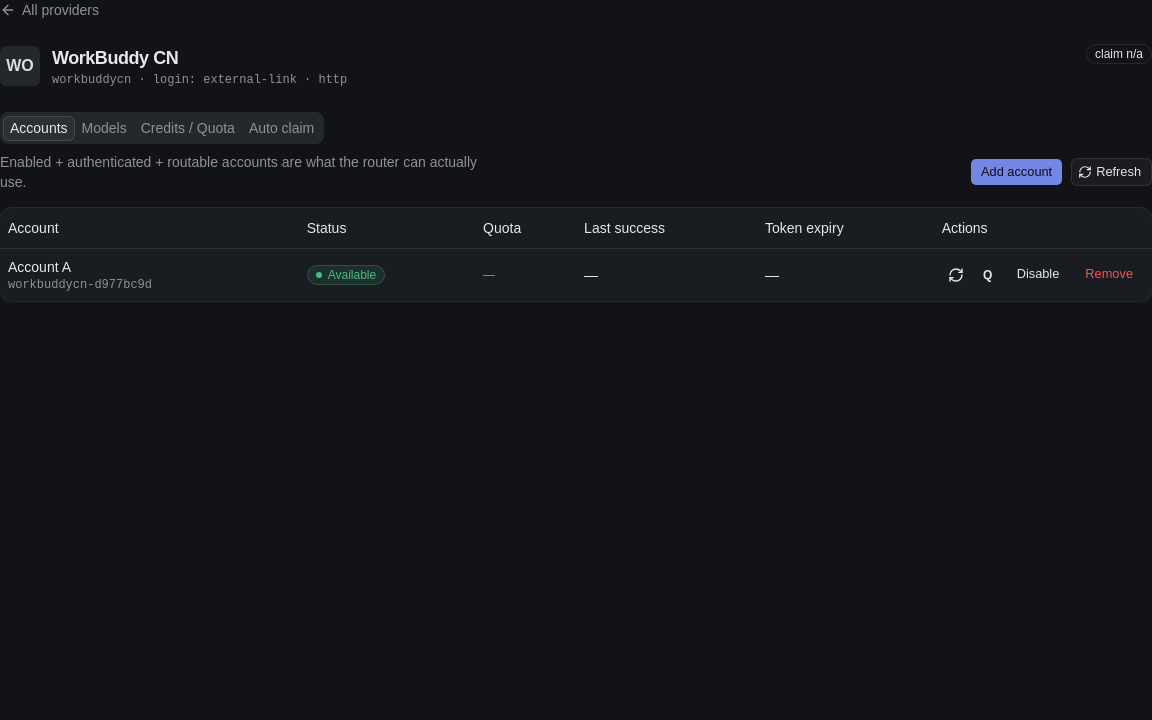
ProviderPage — refresh behavior › refreshes accounts and quotas immediately after a successful login
Check: the heading "WorkBuddy CN" is shown, box [52, 48, 178, 68]
Click the button "Add account". click: (1017, 172)
box: [970, 158, 1063, 186]
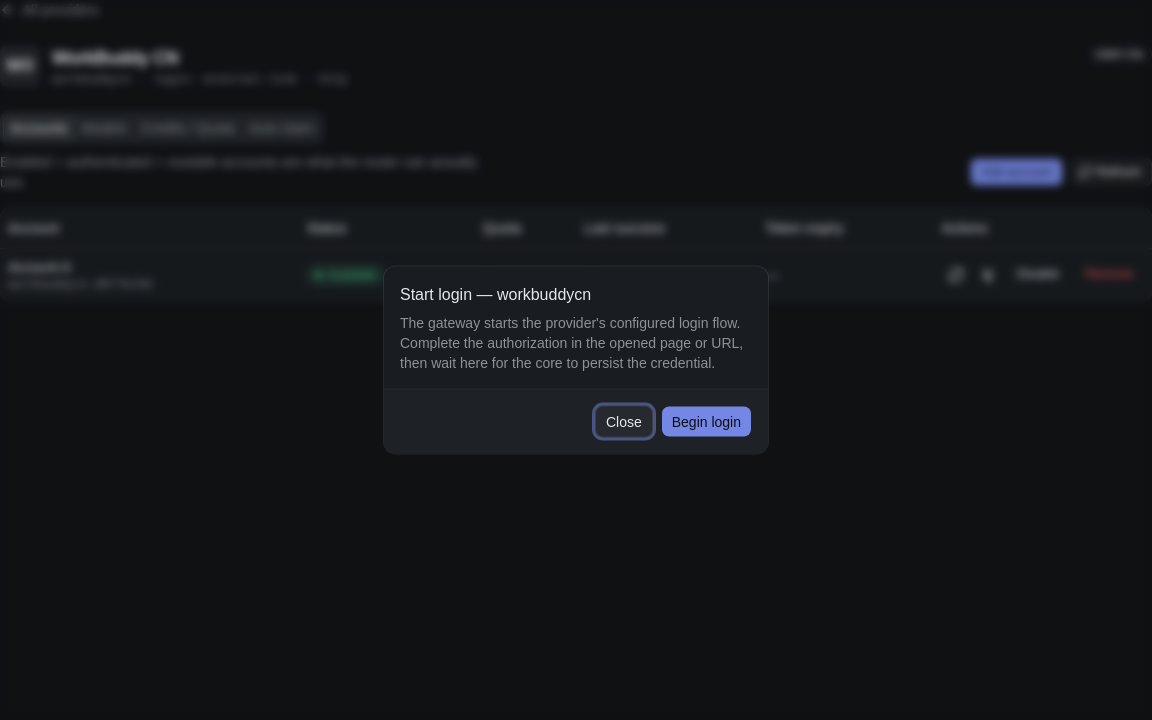
Click the button "Begin login". click: (706, 422)
box: [661, 406, 752, 438]
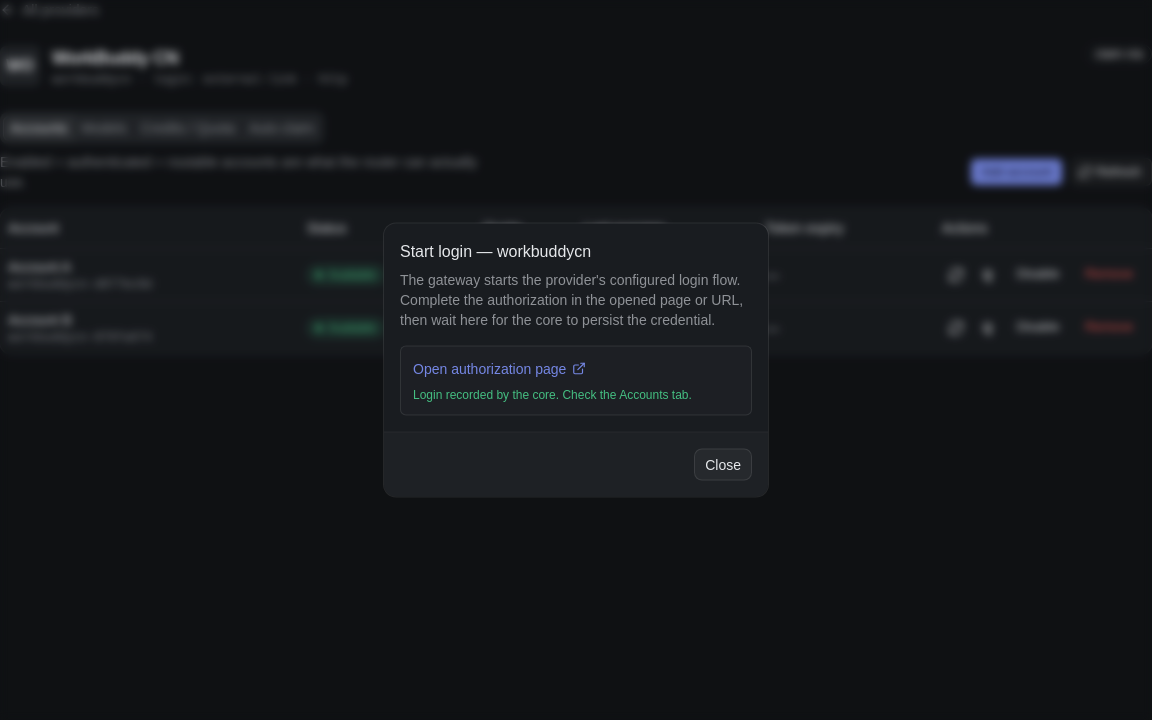
Check: the text "Login recorded by the core. Check the Accounts tab." is shown, box [413, 386, 739, 402]
Click the button "Close". click: (723, 464)
box: [694, 448, 752, 480]
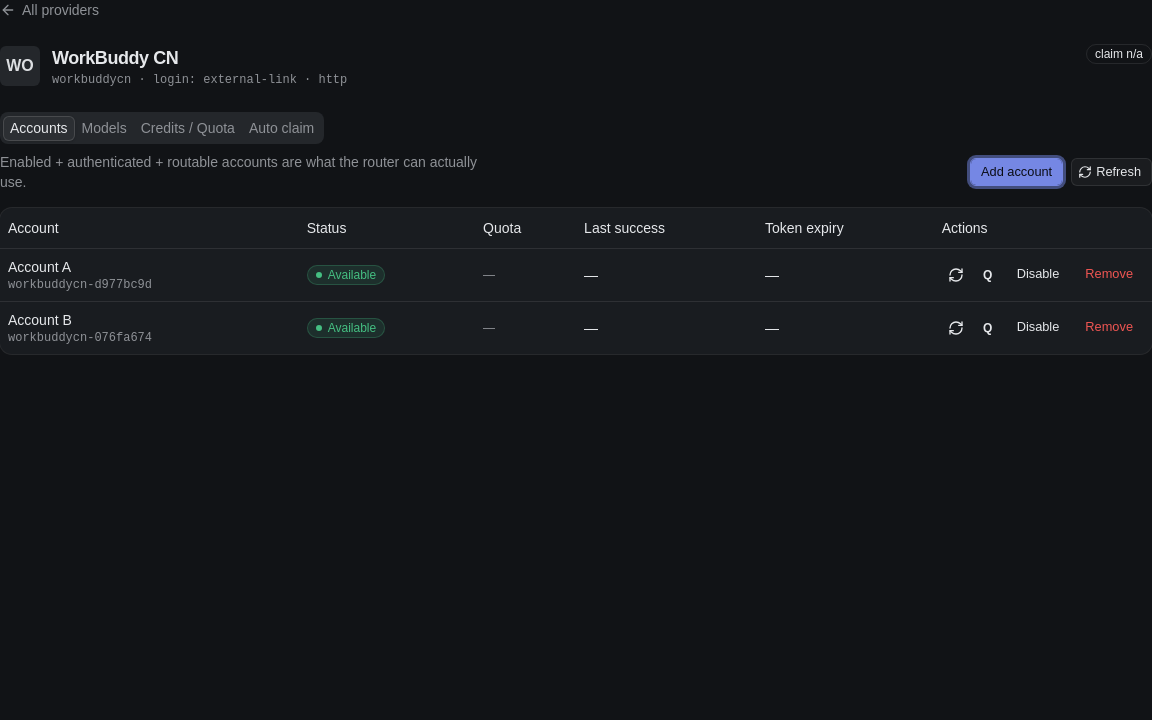
Check: the dialog is gone
Click the tab "Credits / Quota". click: (188, 128)
box: [134, 116, 242, 140]
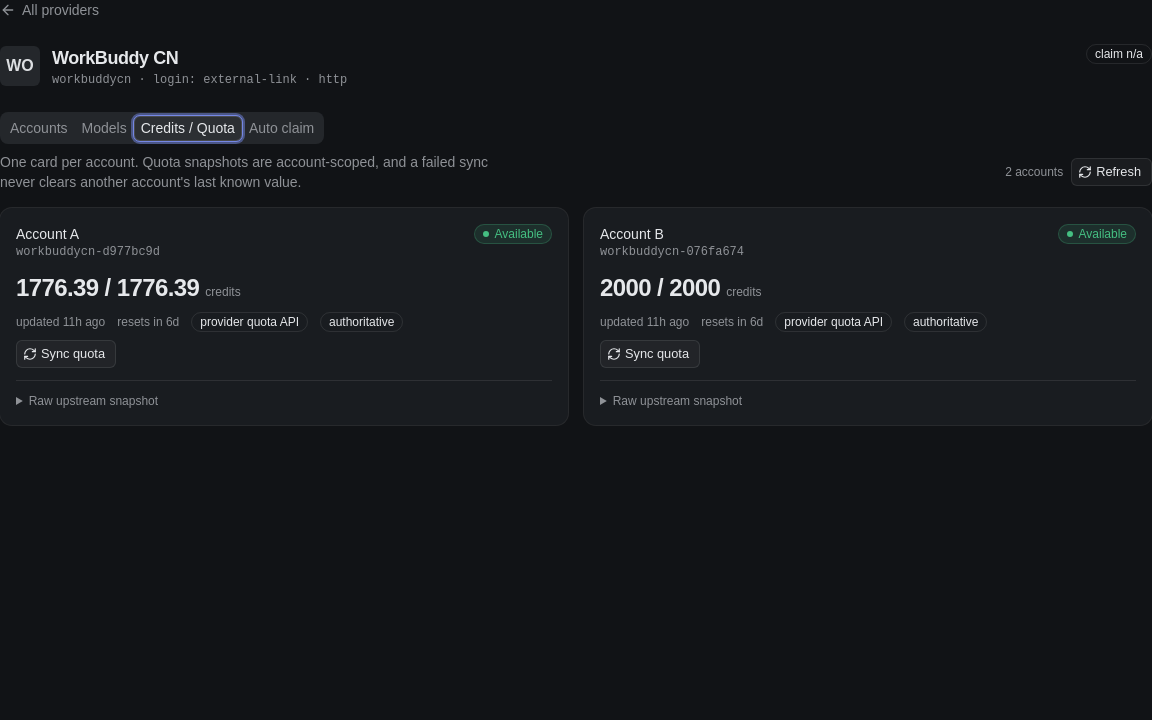
Check: the text "1776.39 / 1776.39" is shown, box [16, 272, 199, 304]
Check: the text "2000 / 2000" is shown, box [600, 272, 720, 304]
